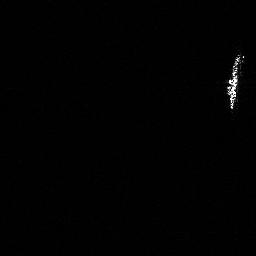ship: (222, 51, 246, 111)
